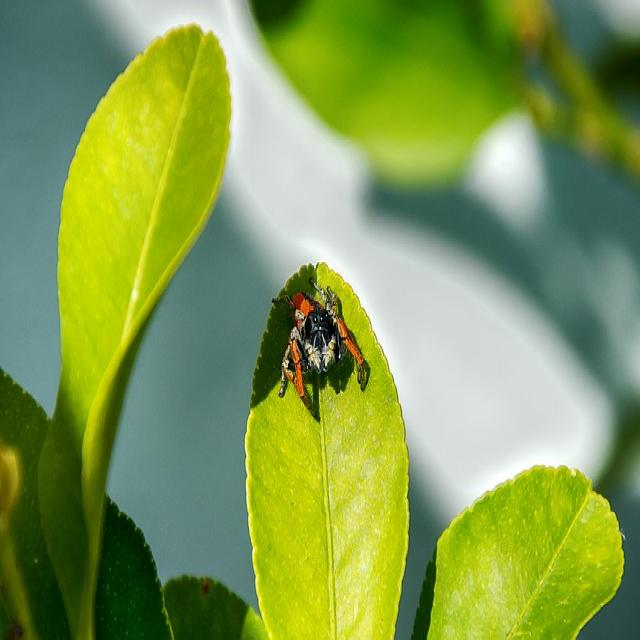spyder: (275, 279, 366, 415)
